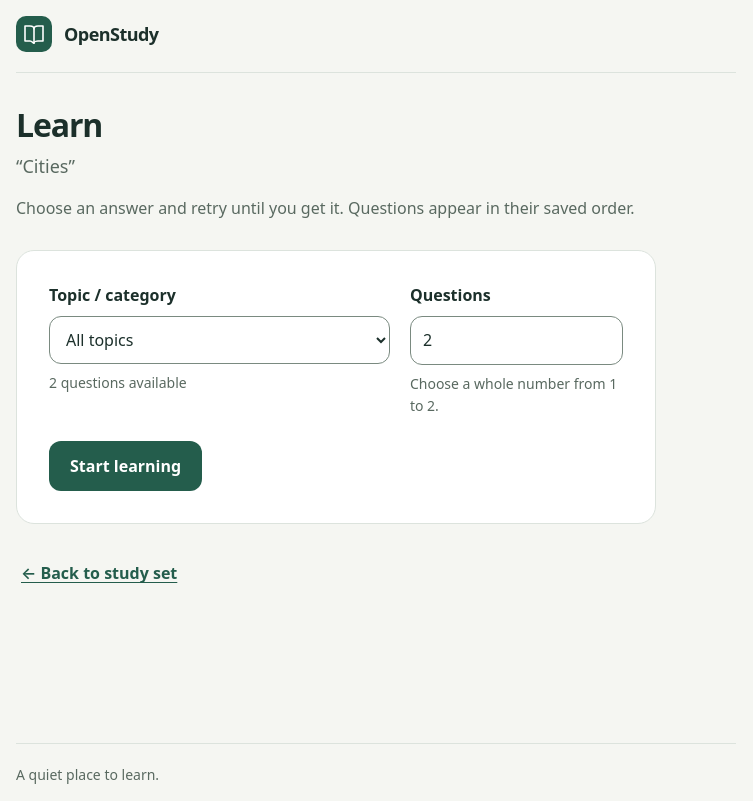
Learn route › configures category/count and hides configuration once studying starts
This screenshot has width=753, height=801.
expect the number field labelled "Questions" holds "2": met, box [410,316,623,365]
Select "Europe" in the dropdown labelled "Topic / category" at (219, 340), box [49,316,390,364]
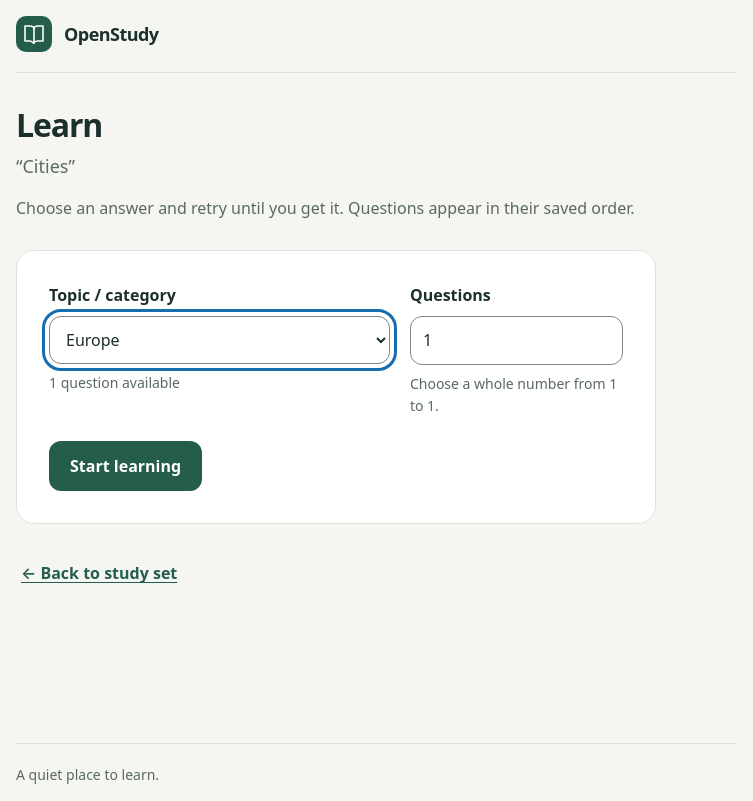
expect the number field labelled "Questions" holds "1": met
expect the text "1 question available" is shown: met, box [49,373,180,392]
Replace the text in the number field labelled "Questions" with "2" at (516, 340), box [410,316,623,365]
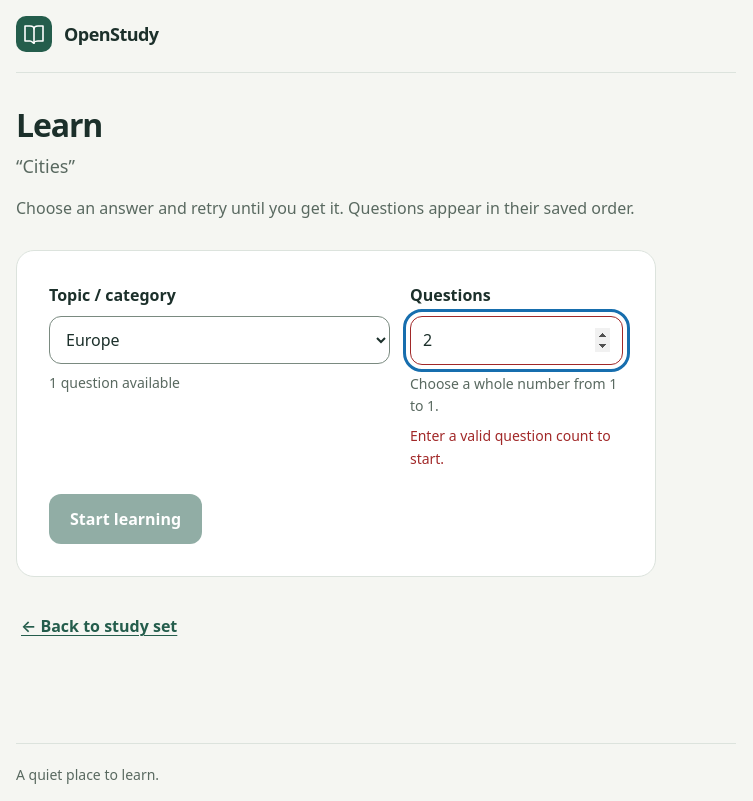
expect the button "Start learning" is disabled: met, box [49,494,202,544]
Replace the text in the number field labelled "Questions" with "1" at (516, 340), box [410,316,623,365]
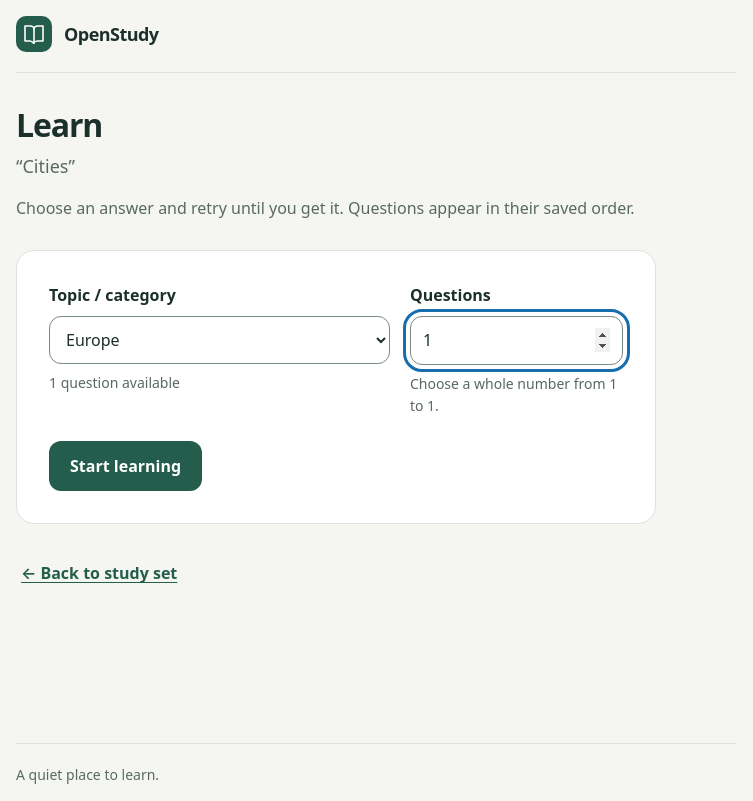
Click the button "Start learning".
click(126, 466)  # box [49,441,202,491]
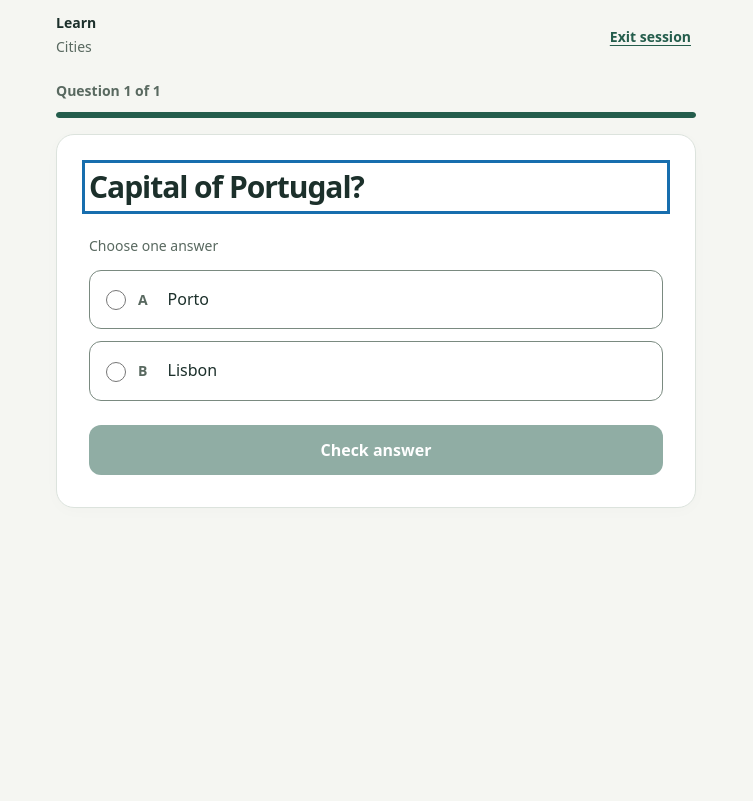
expect the heading "Capital of Portugal?" is shown: met, box [89,166,364,207]
expect the text labelled "Questions" is gone: met
expect the text "Question 1 of 1" is shown: met, box [56,81,161,100]
